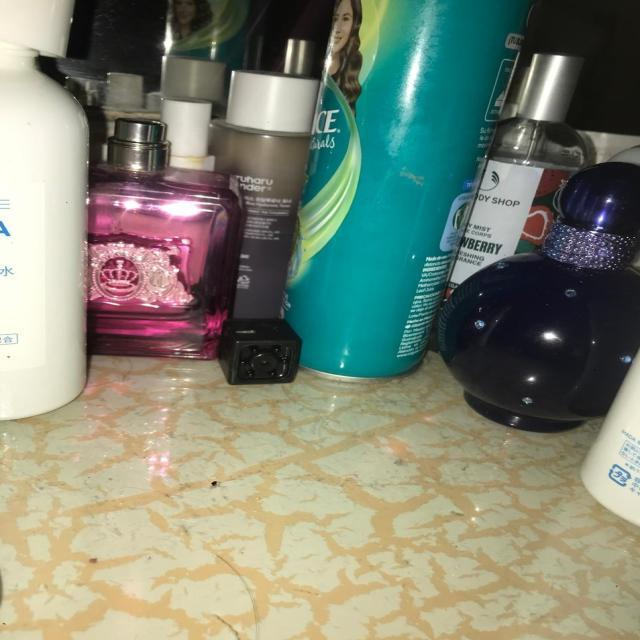hidden camera: (251, 354, 276, 373)
